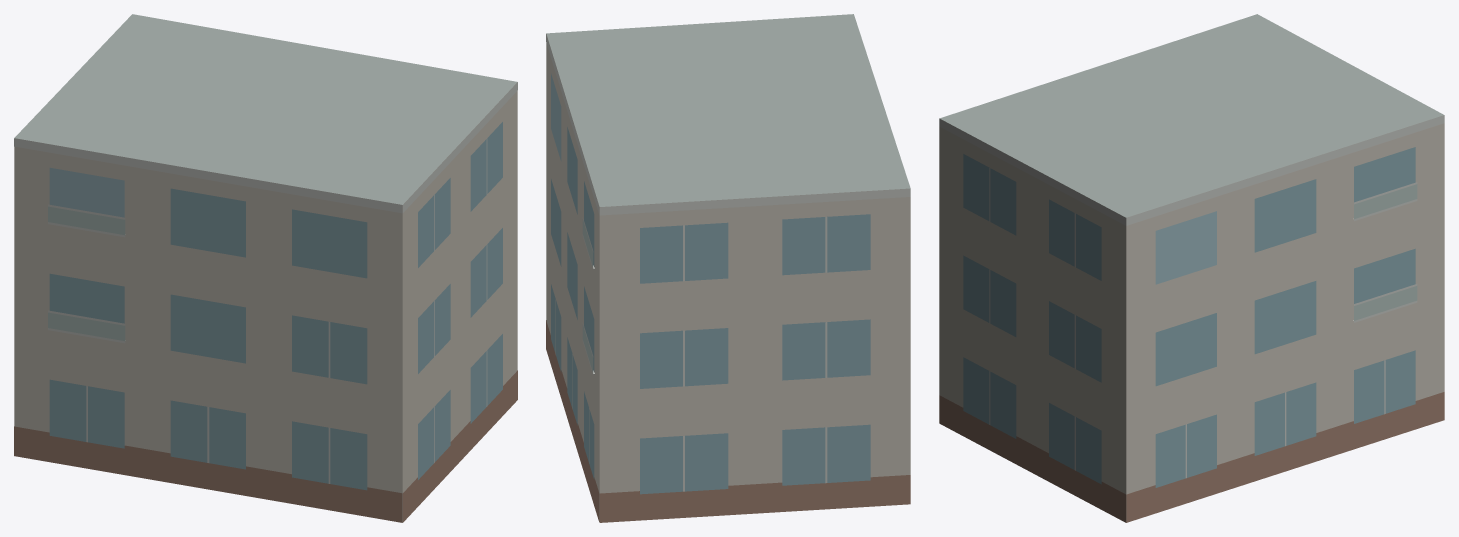
The model's file is survey-upis-32563827.glb.
3 views of the same model, side by side, from view 1: azimuth 30°, elevation 25°; view 2: azimuth 150°, elevation 25°; view 3: azimuth 270°, elevation 25° (orthographic). The views are drawn at different scales.
Visible parts, largest first — view 1: survey-upis-32563827.tmp; view 2: survey-upis-32563827.tmp; view 3: survey-upis-32563827.tmp.
Part boxes in pixels (left/top/right/bottom): survey-upis-32563827.tmp: left=14, top=14, right=517, bottom=522; survey-upis-32563827.tmp: left=546, top=14, right=910, bottom=522; survey-upis-32563827.tmp: left=939, top=14, right=1444, bottom=522.
Size of the model in its own units: 13.12 by 9.15 by 13.74.
